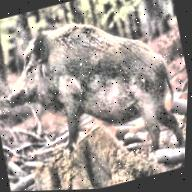boar: (4, 0, 192, 164)
